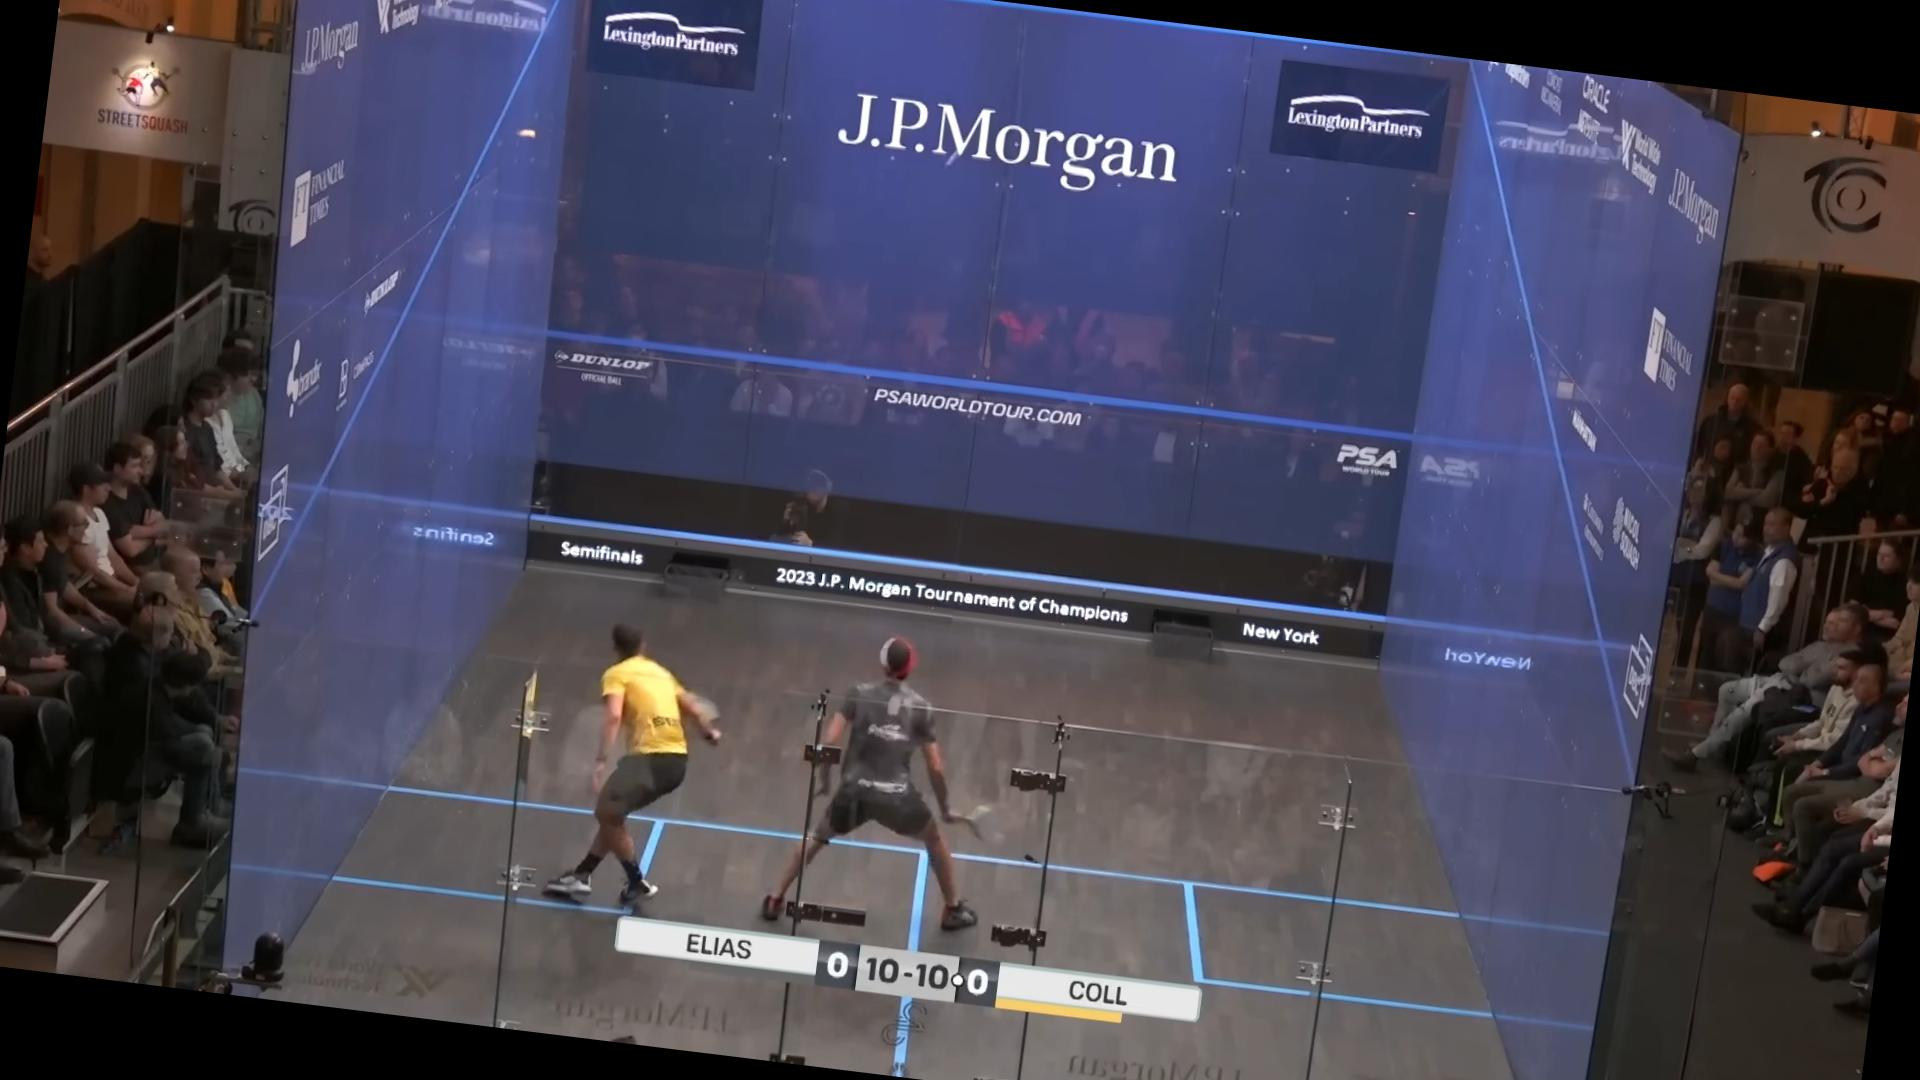Racket: (943, 783, 1030, 857)
